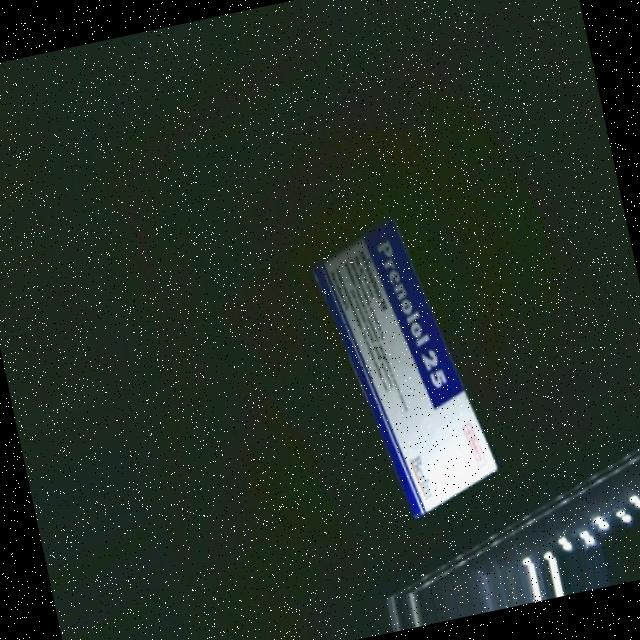prenolol: (306, 208, 504, 528)
